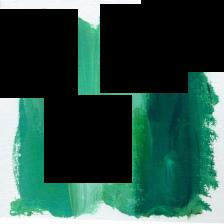green: (9, 6, 218, 217)
